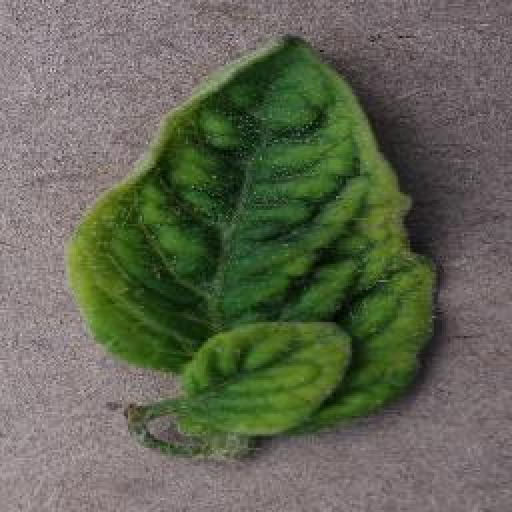disease_tomato: (66, 30, 437, 426), (186, 325, 352, 440)
